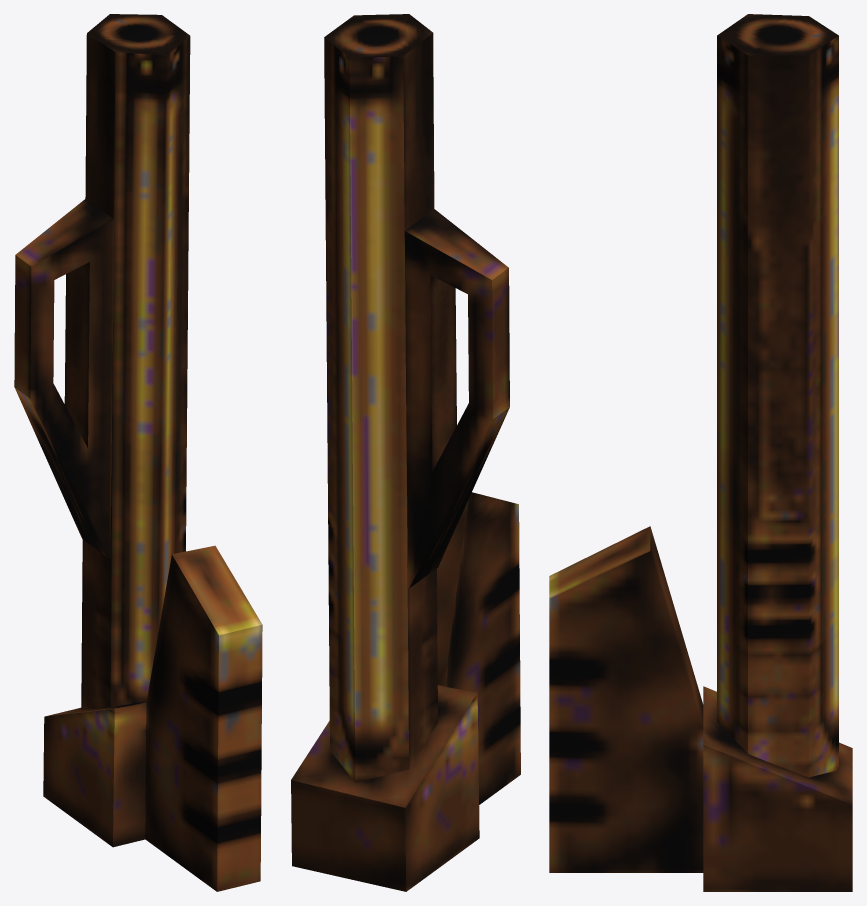
The model's file is ShockCore.gltf.
3 renders of one model, left to right at view 1: azimuth 30°, elevation 25°; view 2: azimuth 150°, elevation 25°; view 3: azimuth 270°, elevation 25°, orthographic. The views are drawn at different scales.
Parts seen in each view (by area): view 1: ShockCore; view 2: ShockCore; view 3: ShockCore.
Part boxes in pixels (bbox=[...]): ShockCore: bbox=[14, 14, 262, 891]; ShockCore: bbox=[291, 14, 520, 891]; ShockCore: bbox=[549, 14, 852, 891].
Size of the model in its own units: 0.0801 by 0.36 by 0.1188.
1 material, 1 textured.
